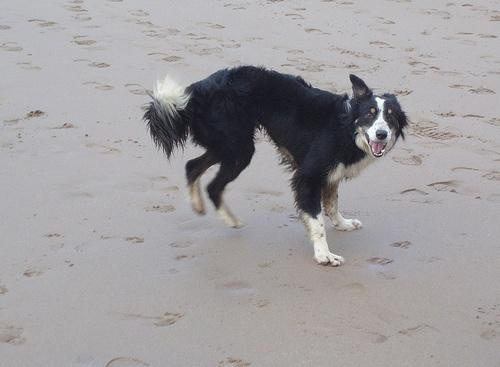dog: (141, 58, 414, 272)
